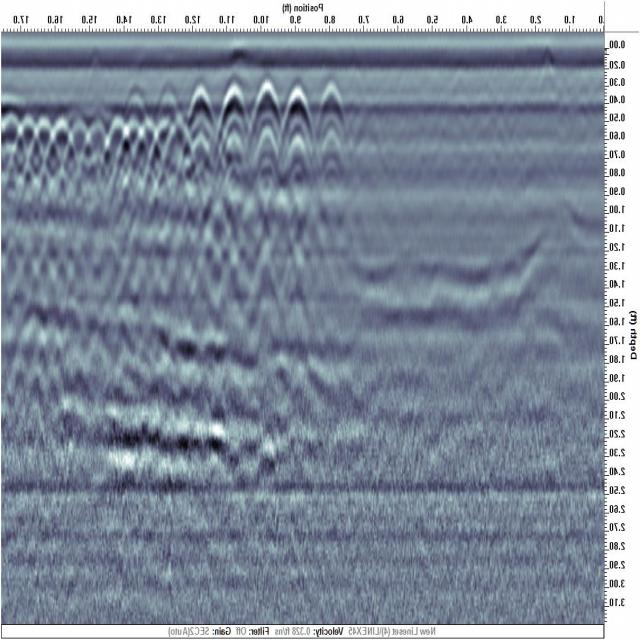hyperbola: (276, 76, 321, 170), (246, 72, 289, 161), (180, 82, 224, 161), (214, 79, 251, 163)
